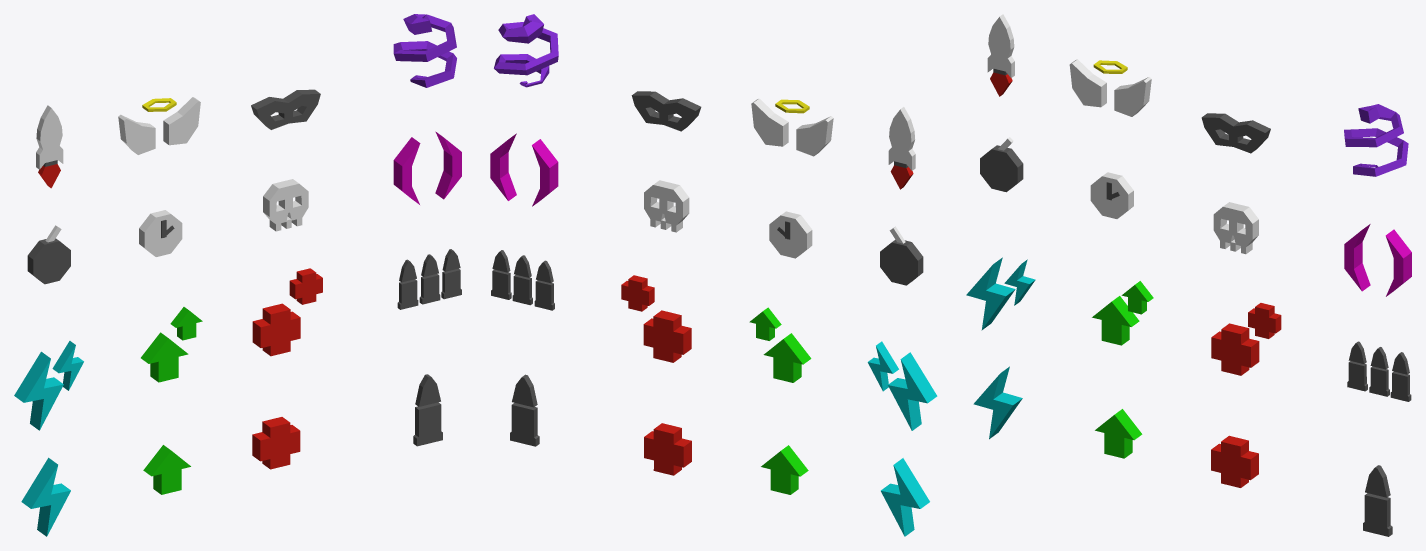
3 views of the same model, side by side, from view 1: azimuth 30°, elevation 25°; view 2: azimuth 150°, elevation 25°; view 3: azimuth 330°, elevation 25° (orthographic).
Parts seen in each view (by area): view 1: HealthUp.001, EnergyUp2, WingIcon, StunnedIcon, AmmoIcon.001, ShieldIcon, SpeedUp.001, HealthUp, EnergyUp, SkullIcon, MaskIcon, RocketIcon (+4 smaller); view 2: HealthUp.001, WingIcon, EnergyUp2, StunnedIcon, AmmoIcon.001, ShieldIcon, SpeedUp.001, HealthUp, EnergyUp, SkullIcon, MaskIcon, RocketIcon (+4 smaller); view 3: HealthUp.001, WingIcon, AmmoIcon.001, StunnedIcon, ShieldIcon, SpeedUp.001, EnergyUp2, HealthUp, SkullIcon, MaskIcon, RocketIcon, AmmoIcon (+4 smaller).
Part boxes in pixels (x1=…): HealthUp.001: x1=252, y1=268, x2=322, y2=356; EnergyUp2: x1=14, y1=341, x2=83, y2=430; WingIcon: x1=118, y1=97, x2=200, y2=154; StunnedIcon: x1=393, y1=14, x2=456, y2=87; AmmoIcon.001: x1=397, y1=249, x2=461, y2=309; ShieldIcon: x1=393, y1=131, x2=461, y2=204; SpeedUp.001: x1=141, y1=307, x2=202, y2=382; HealthUp: x1=252, y1=417, x2=300, y2=469; EnergyUp: x1=21, y1=457, x2=70, y2=536; SkullIcon: x1=263, y1=179, x2=308, y2=231; MaskIcon: x1=251, y1=89, x2=320, y2=129; RocketIcon: x1=36, y1=105, x2=63, y2=188; HealthUp.001: x1=621, y1=275, x2=691, y2=362; WingIcon: x1=751, y1=98, x2=833, y2=156; EnergyUp2: x1=867, y1=341, x2=937, y2=430; StunnedIcon: x1=494, y1=14, x2=558, y2=87; AmmoIcon.001: x1=491, y1=250, x2=554, y2=310; ShieldIcon: x1=490, y1=133, x2=558, y2=206; SpeedUp.001: x1=749, y1=307, x2=811, y2=382; HealthUp: x1=644, y1=423, x2=691, y2=475; EnergyUp: x1=881, y1=458, x2=929, y2=536; SkullIcon: x1=644, y1=180, x2=689, y2=232; MaskIcon: x1=631, y1=91, x2=701, y2=131; RocketIcon: x1=888, y1=107, x2=915, y2=189; HealthUp.001: x1=1211, y1=303, x2=1281, y2=375; WingIcon: x1=1069, y1=59, x2=1151, y2=116; AmmoIcon.001: x1=1347, y1=341, x2=1411, y2=401; StunnedIcon: x1=1344, y1=104, x2=1408, y2=176; ShieldIcon: x1=1344, y1=224, x2=1411, y2=296; SpeedUp.001: x1=1092, y1=281, x2=1153, y2=345; EnergyUp2: x1=966, y1=257, x2=1035, y2=330; HealthUp: x1=1211, y1=435, x2=1258, y2=487; SkullIcon: x1=1213, y1=202, x2=1258, y2=254; MaskIcon: x1=1201, y1=113, x2=1270, y2=153; RocketIcon: x1=987, y1=14, x2=1014, y2=96; AmmoIcon: x1=1363, y1=465, x2=1392, y2=536.
Size of the model in its own units: 7.14 by 6.61 by 0.9119.
